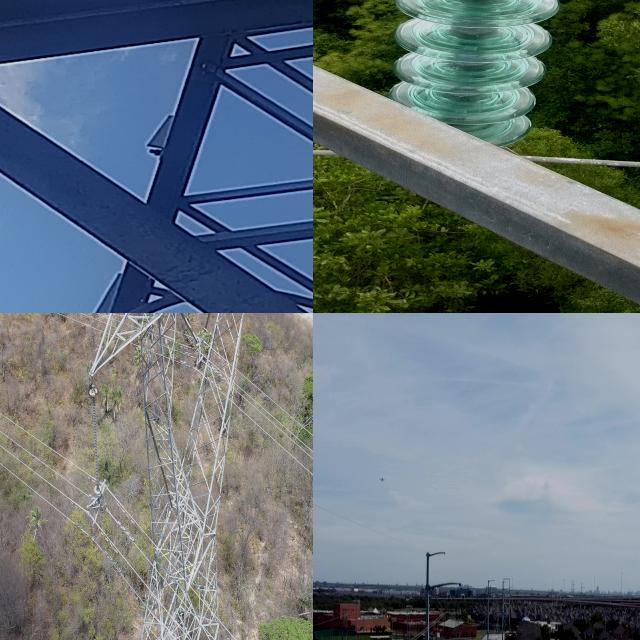杆塔: (74, 313, 300, 640)
正常绝缘子: (394, 0, 562, 147), (88, 386, 104, 496), (441, 590, 458, 616), (433, 589, 447, 616)
